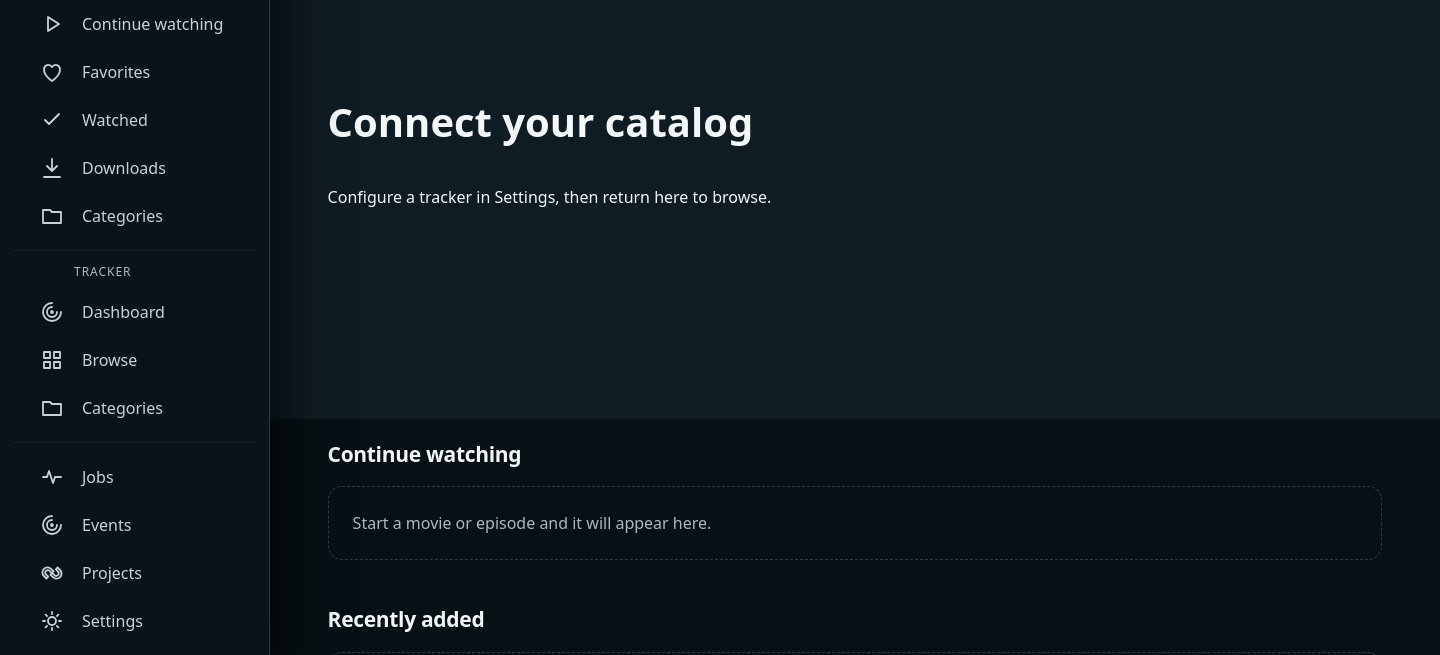
settings tabs › edits subtitle settings in exactly one place
This screenshot has width=1440, height=655.
(page scrolled)
Click the button "Settings" at x=135, y=621, box 12,597 -> 258,645
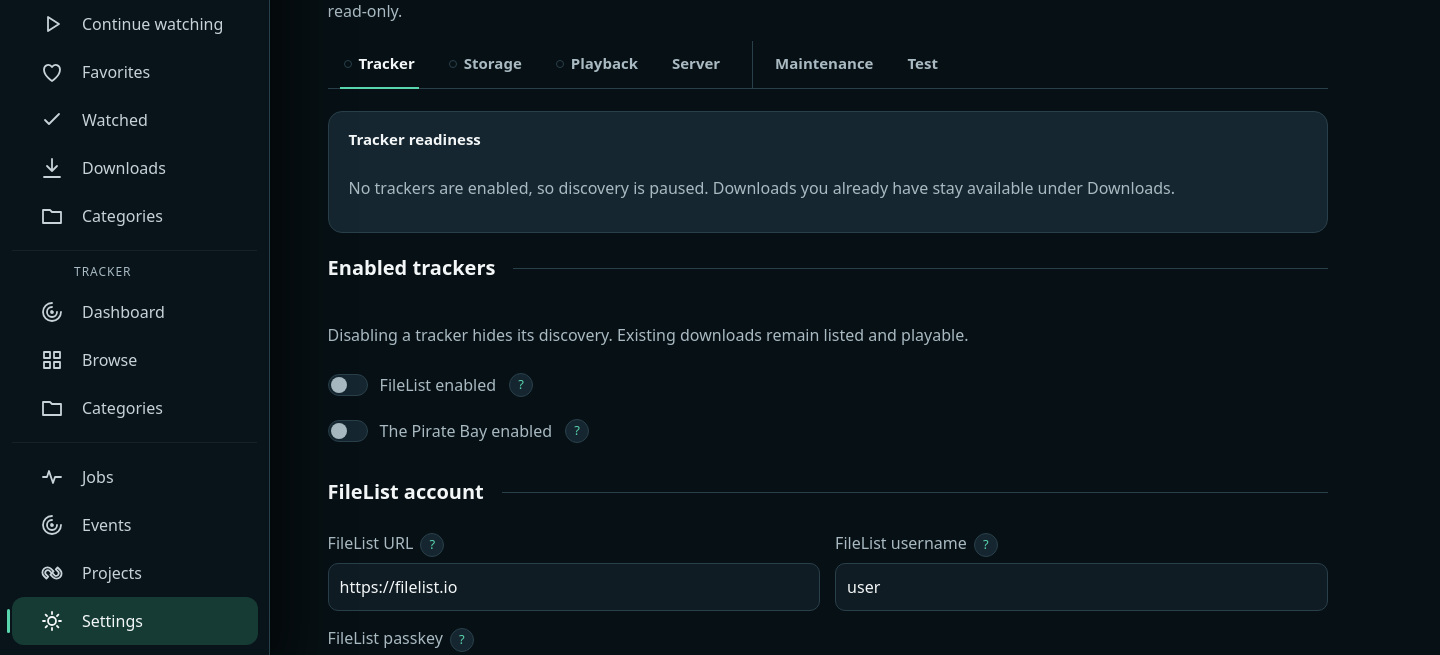
Click the tab "Playback" at x=597, y=64, box 540,41 -> 654,88
(page scrolled)
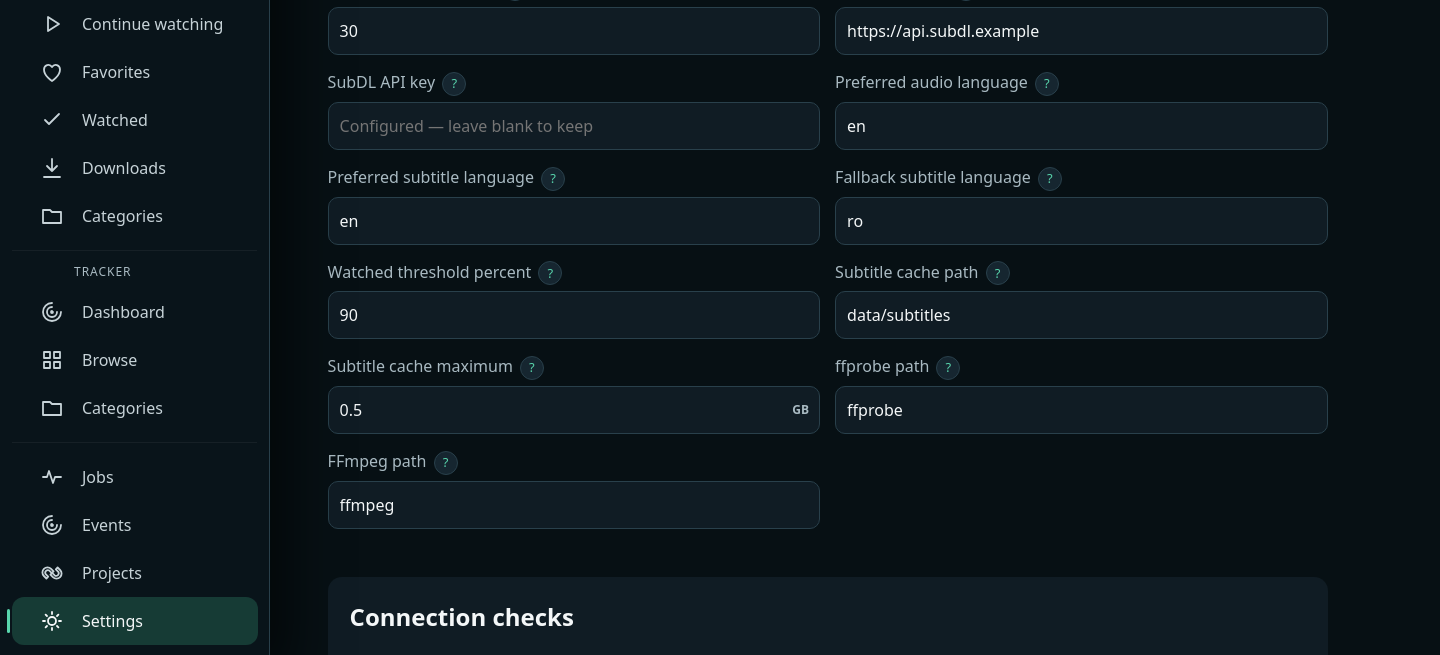
Check: the panel with class "settings-panel" shows "Subtitle cache path", box 835,260 -> 978,282
Check: the panel with class "settings-panel" shows "ffprobe path", box 835,355 -> 929,377
